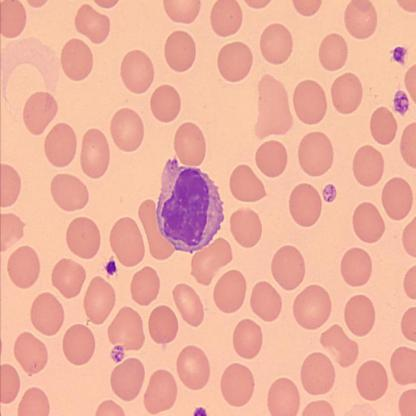Atypical lymphocyte: (158, 158, 224, 251)
